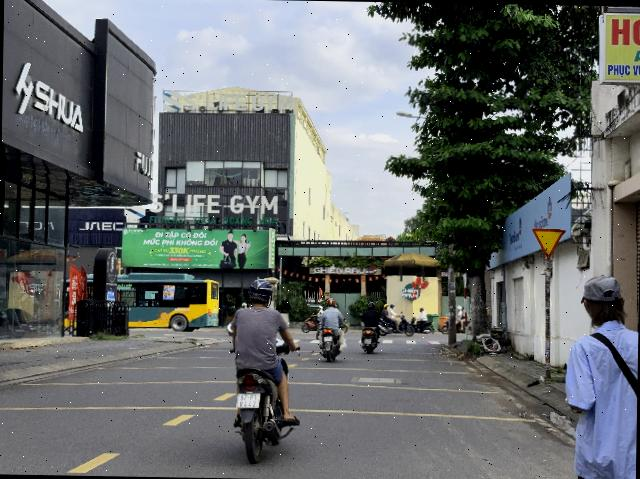giao-nhau-voi-duong-uu-tien: (532, 227, 568, 259)
